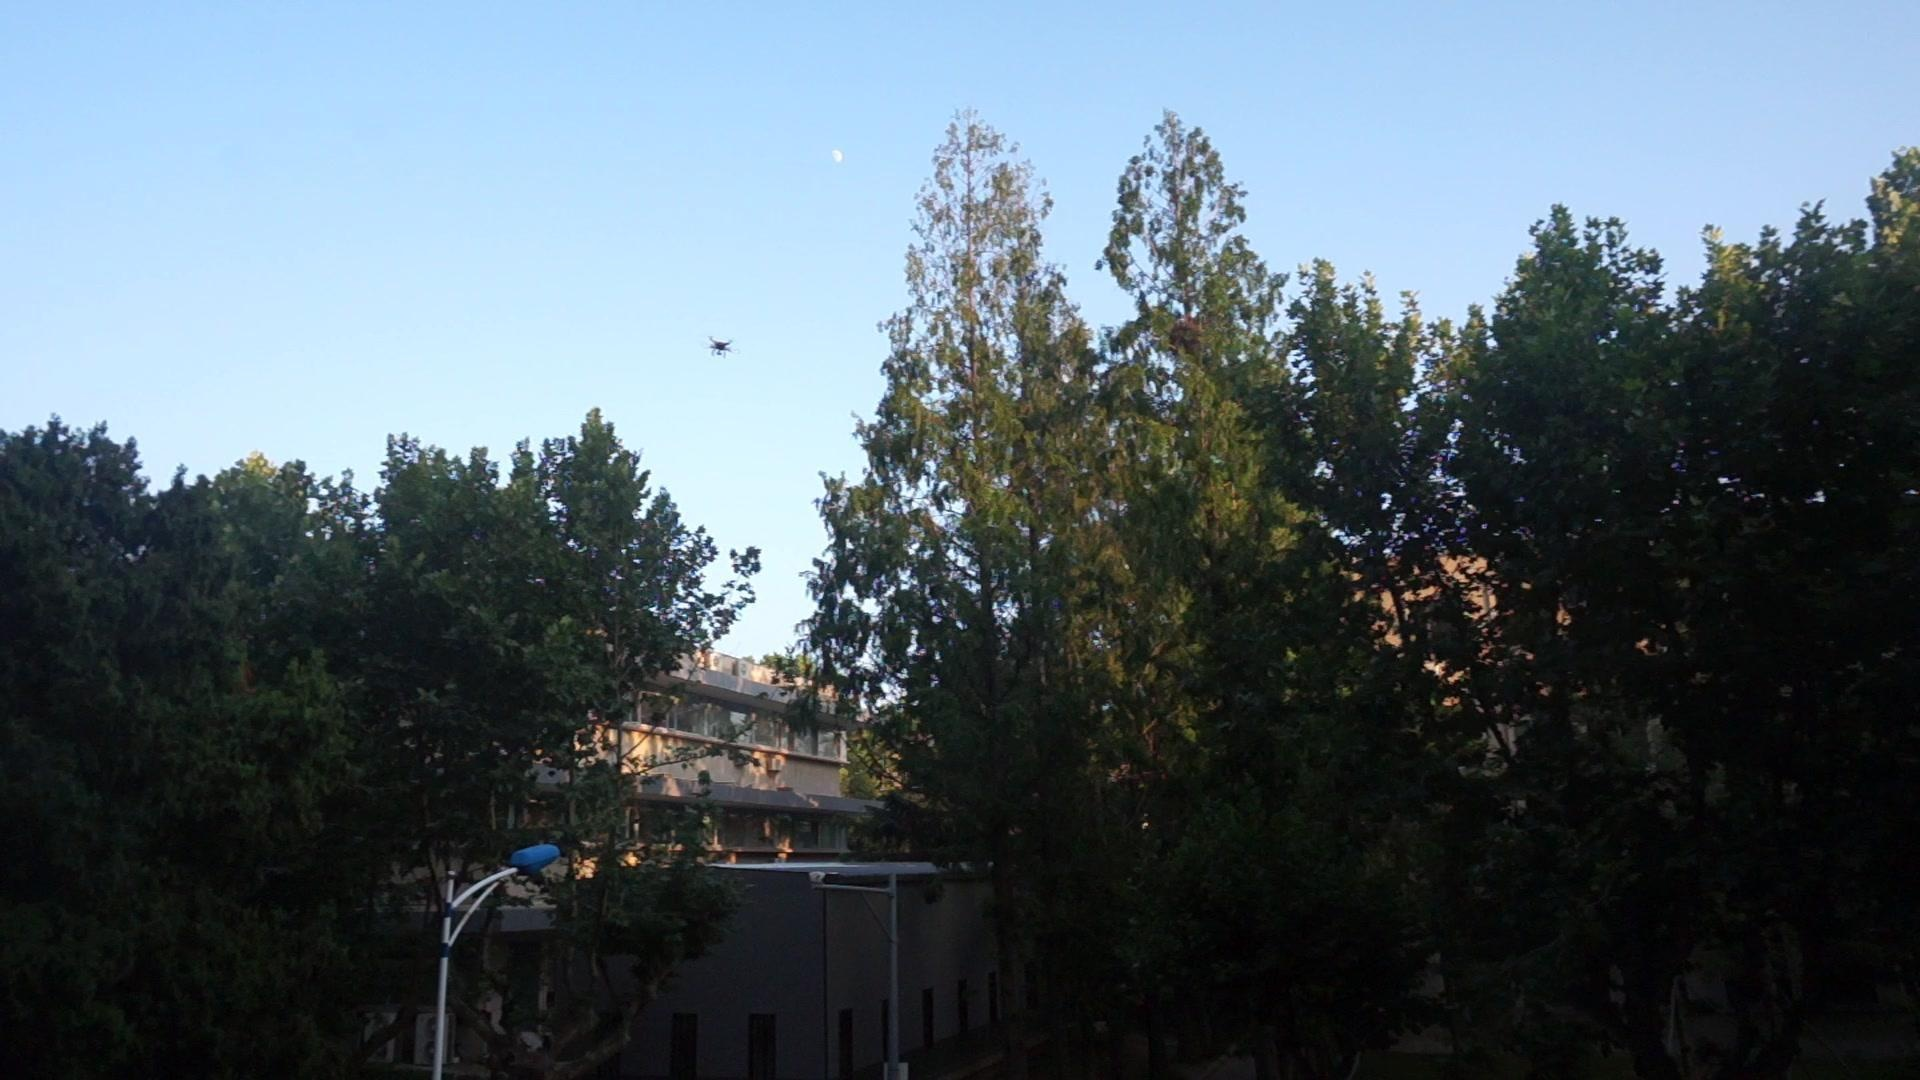UAV: (699, 338, 742, 360)
